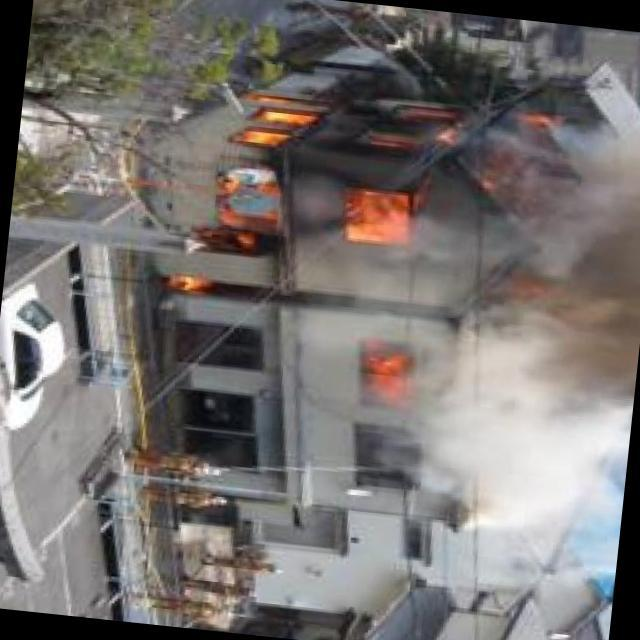Fire: (158, 58, 570, 337), (350, 346, 411, 422)
